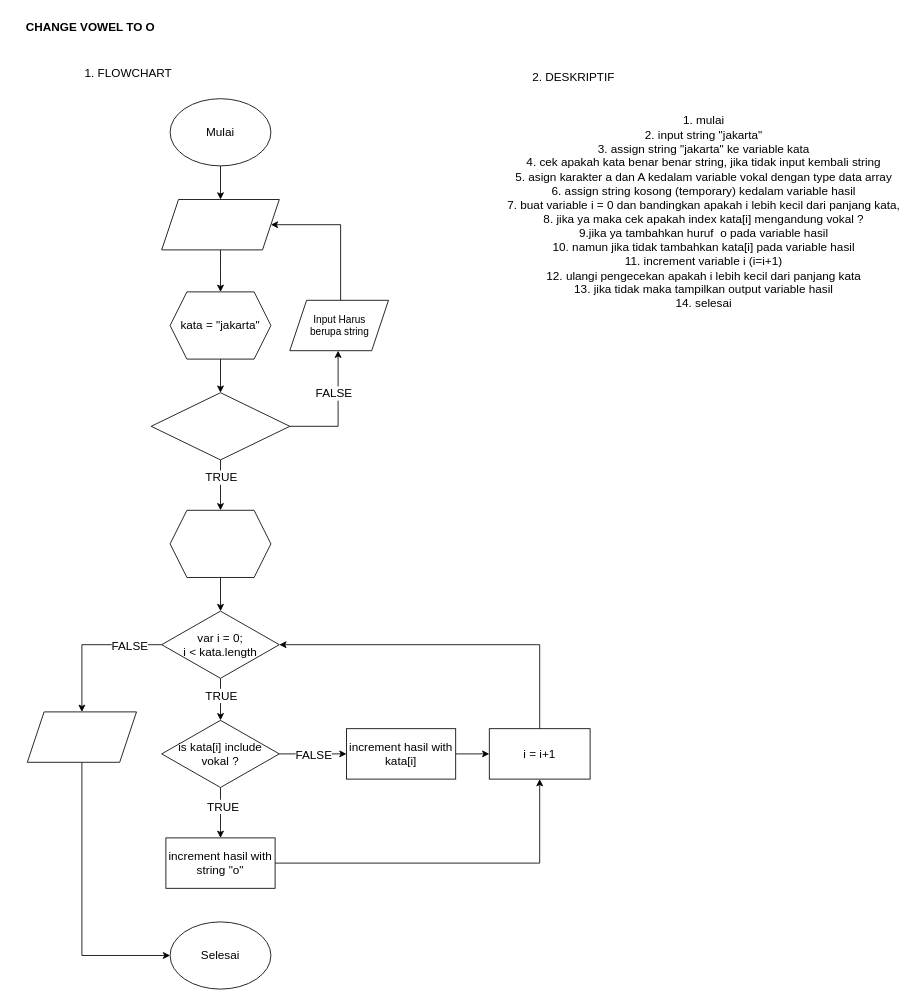
Some shapes in this 923 by 1004 pixel diagram are drawn without their labels. Here are the shapes that lost their labels. From the top down, the box of each, then its label:
(161, 199, 279, 250): Input "jakarta"
(150, 392, 290, 460): is kata !== number ?
(169, 509, 271, 578): vokal = ['a','A']; hasil = ' ';
(26, 711, 136, 762): output hasil
